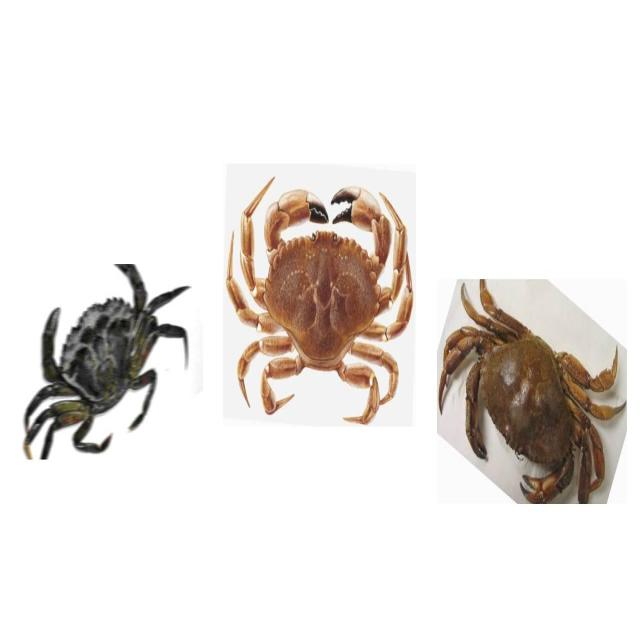egc: (21, 263, 192, 460)
